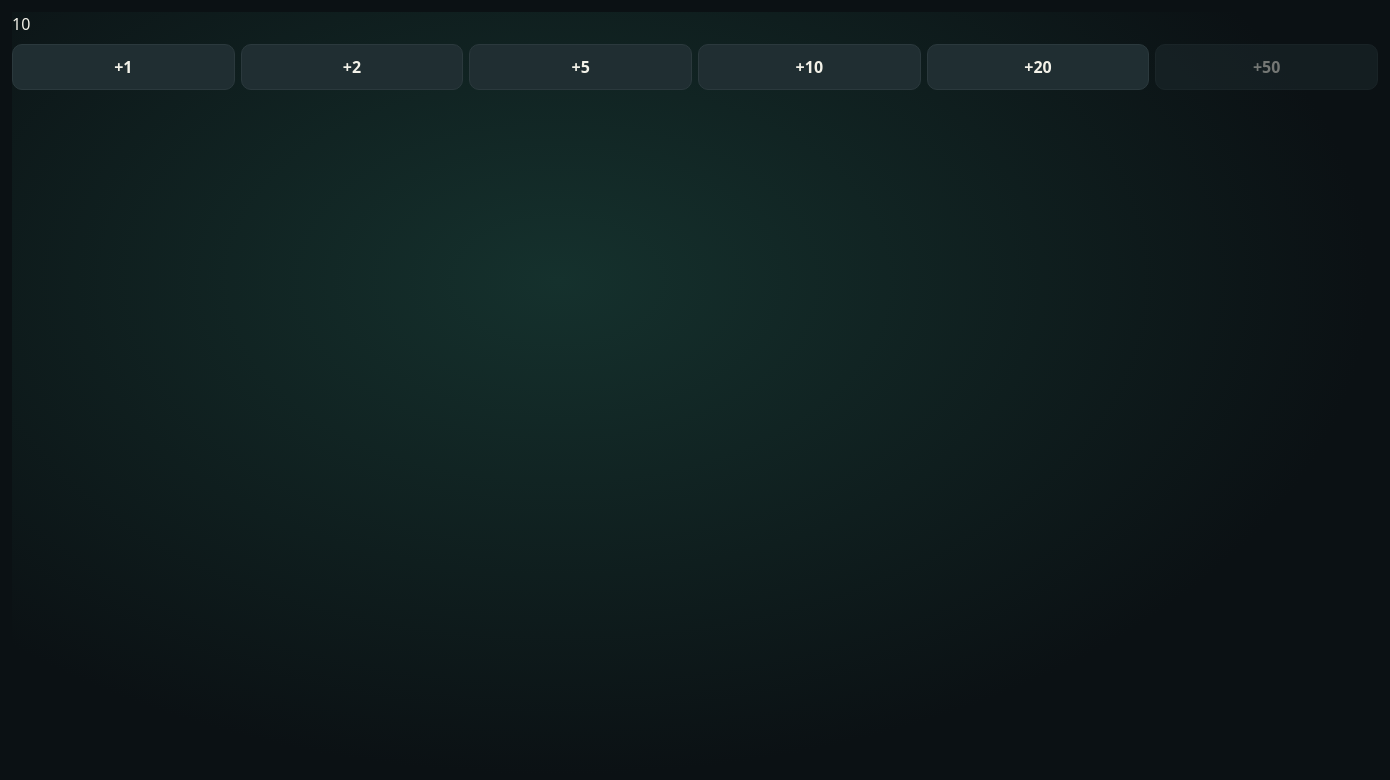
Test: wager increments › accumulates chips without submitting, respecting the maximum
The image size is (1390, 780).
Click the button "+5": (581, 67) [469, 44, 692, 90]
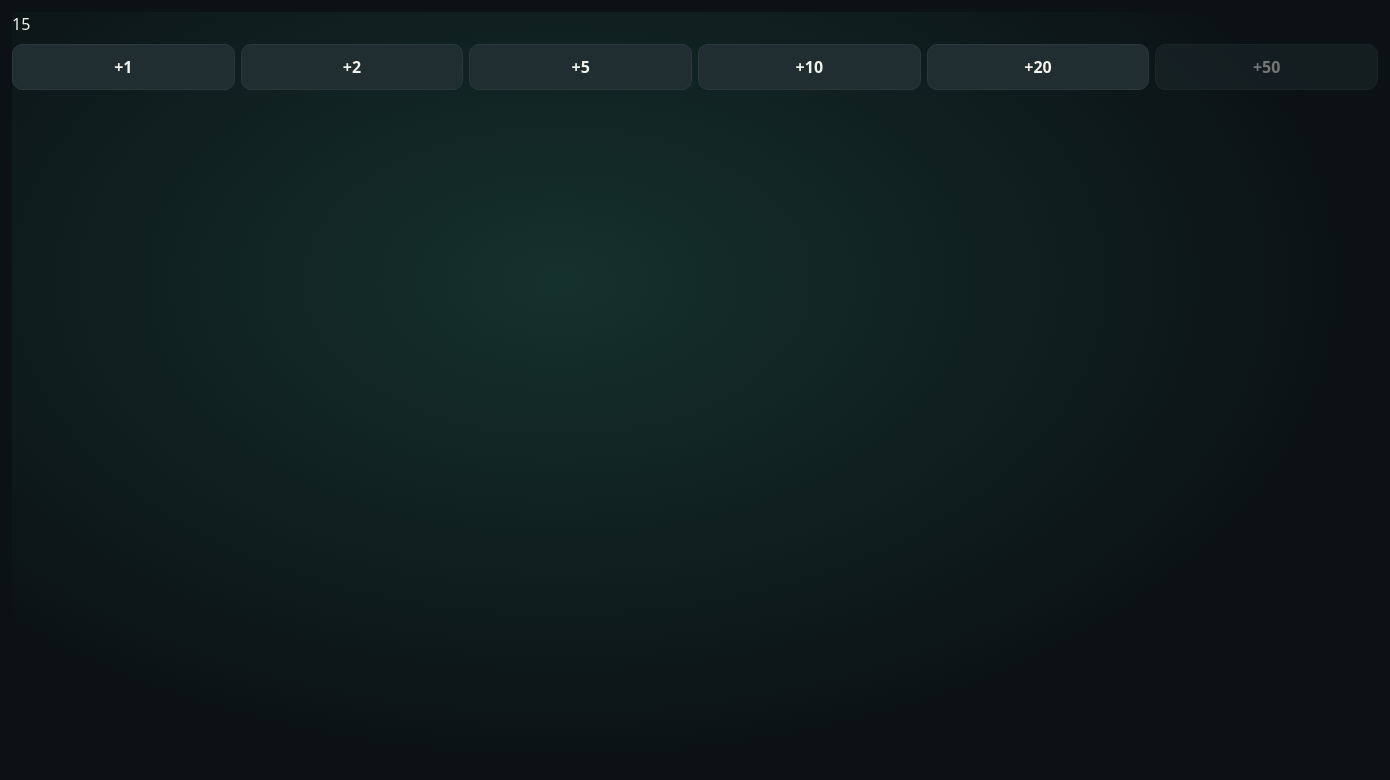
Click the button "+20": (1038, 67) [927, 44, 1149, 90]
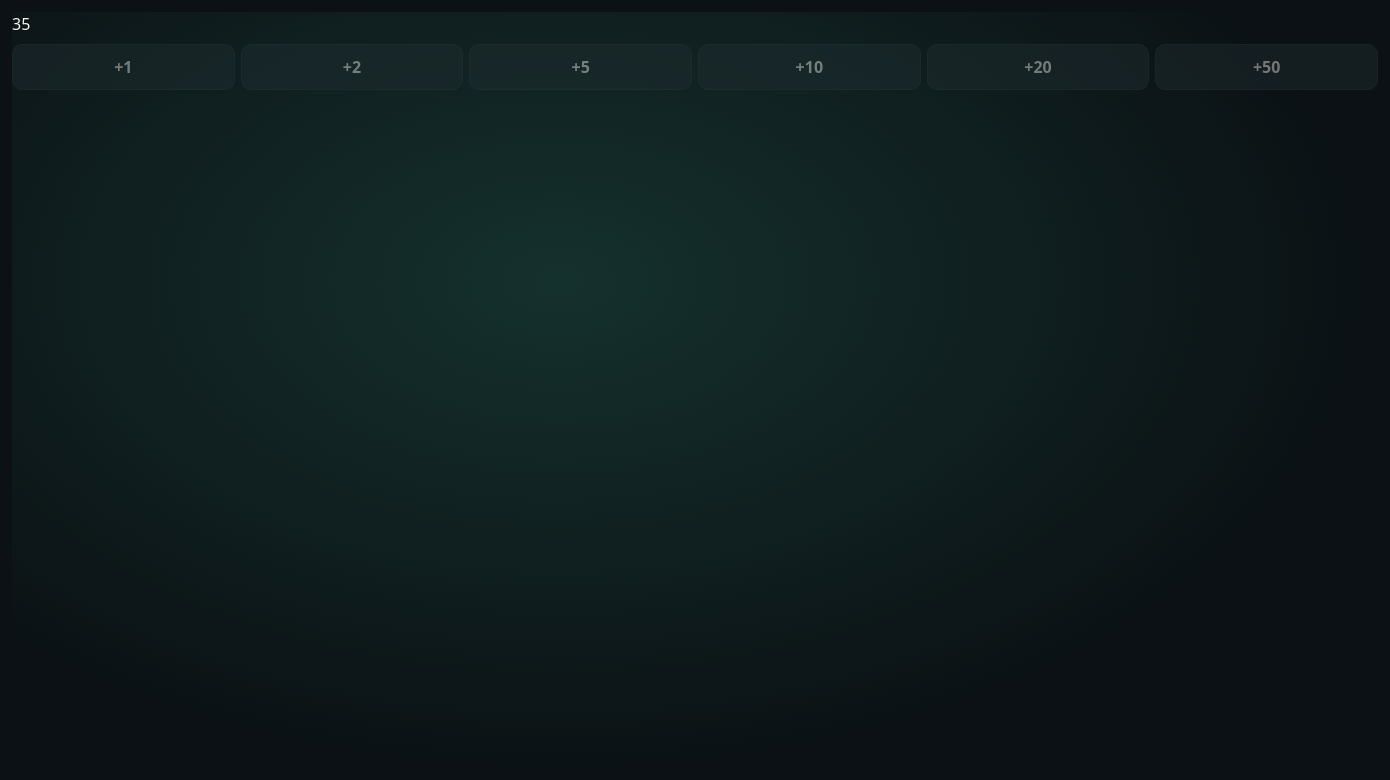
Expected: the text "35" is shown, [12, 13, 30, 35]
Expected: the button "+1" is disabled, [12, 44, 235, 90]
